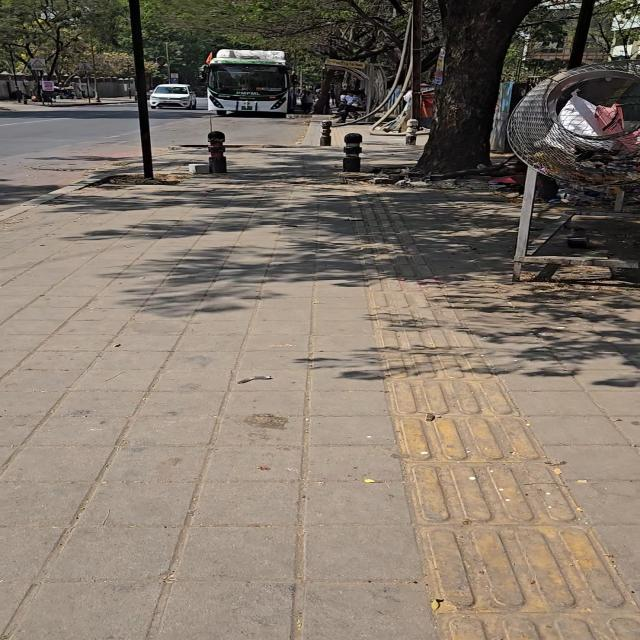obstacle: (129, 0, 153, 178), (568, 0, 595, 68), (412, 0, 423, 122), (208, 131, 226, 173), (8, 45, 21, 103), (343, 133, 362, 172), (91, 38, 100, 102), (406, 119, 418, 145), (320, 120, 331, 145), (166, 42, 171, 83)
